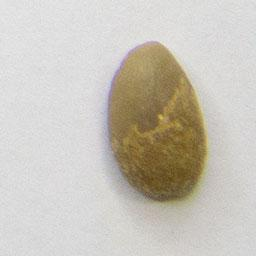longberry: (104, 37, 210, 205)
